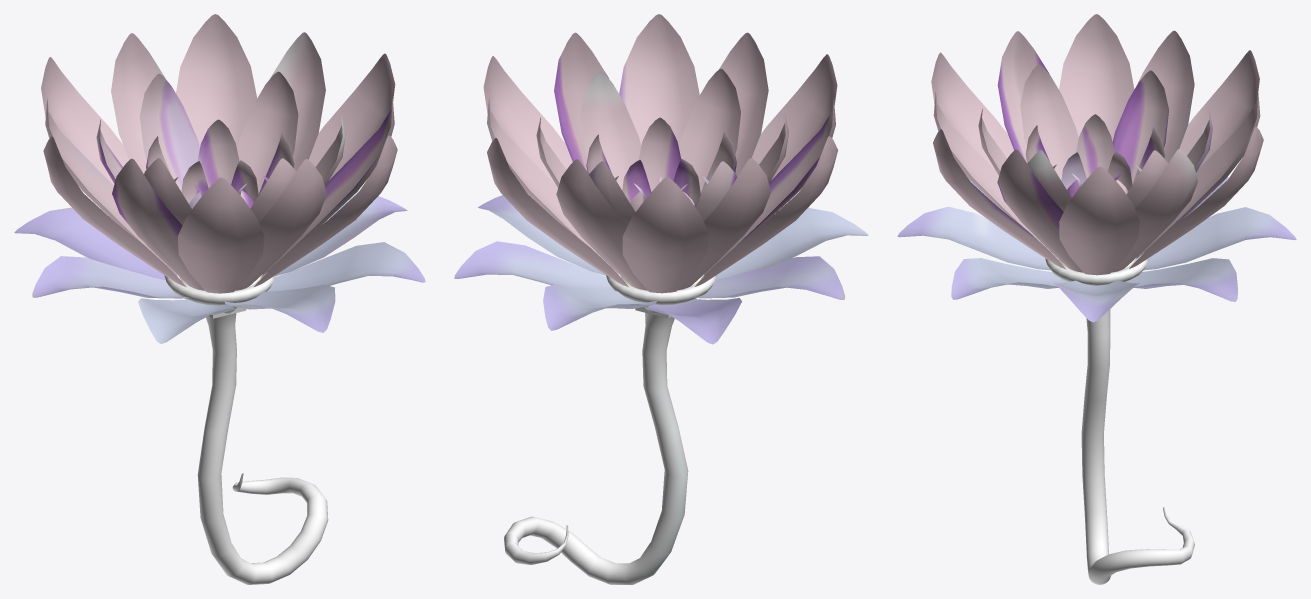
3 renders of one model, left to right at view 1: azimuth 30°, elevation 25°; view 2: azimuth 150°, elevation 25°; view 3: azimuth 270°, elevation 25°, orthographic. The views are drawn at different scales.
Parts seen in each view (by area): view 1: Flower_Lotus-Stylized; view 2: Flower_Lotus-Stylized; view 3: Flower_Lotus-Stylized.
Boxes of the visible parts, x1=… form: Flower_Lotus-Stylized: x1=14, y1=14, x2=425, y2=584; Flower_Lotus-Stylized: x1=454, y1=14, x2=868, y2=584; Flower_Lotus-Stylized: x1=897, y1=14, x2=1296, y2=584.
Size of the model in its own units: 22.23 by 28.65 by 22.23.
2 materials, 1 textured.
